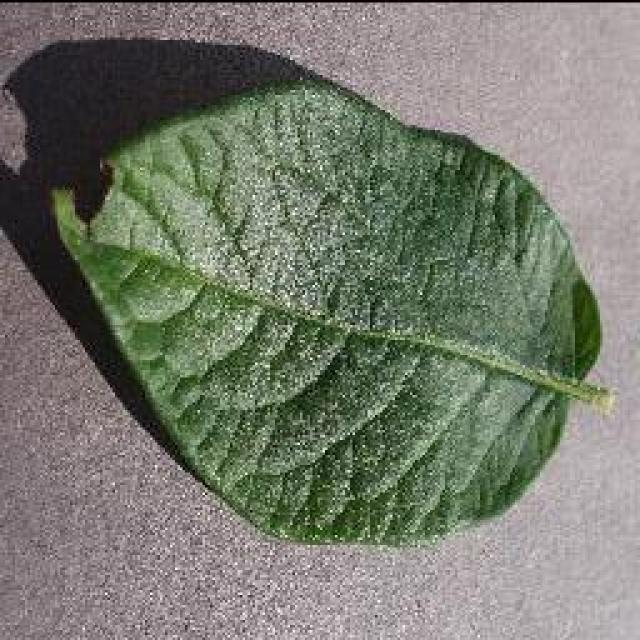Potato___healthy: (48, 71, 619, 553)
